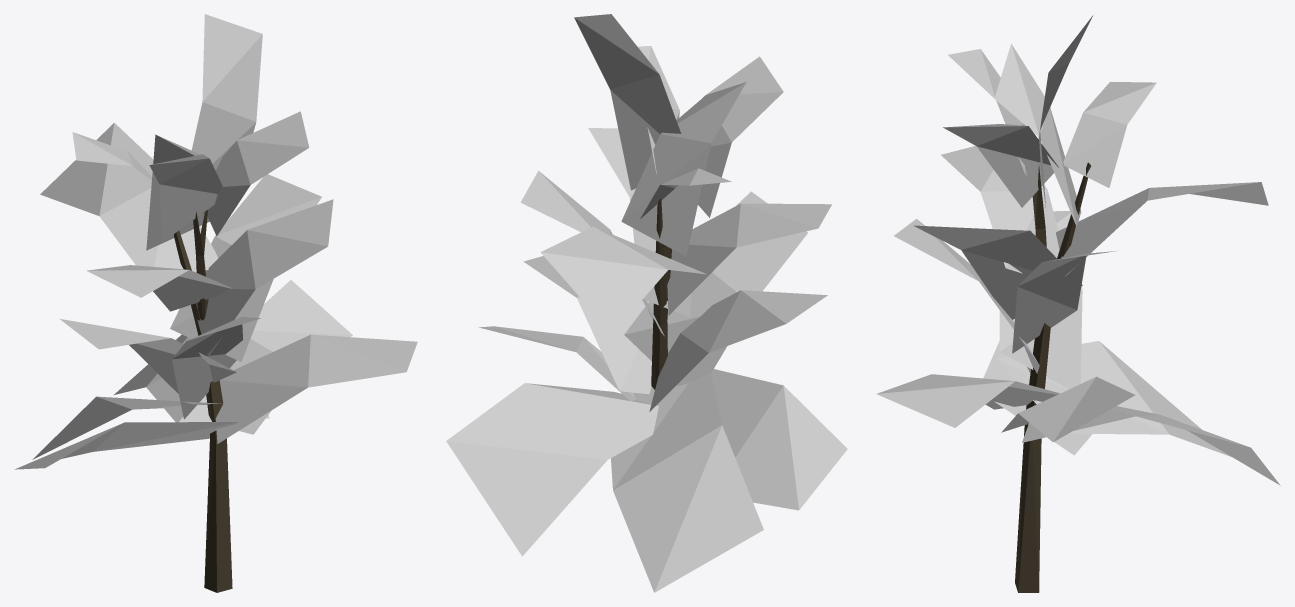
Rendered from ADDON_PLANTS_JUNGLETREE_03_163P.OBJ.
3 views of the same model, side by side, from view 1: azimuth 30°, elevation 25°; view 2: azimuth 150°, elevation 25°; view 3: azimuth 270°, elevation 25° (orthographic). The views are drawn at different scales.
Visible parts, largest first — view 1: ADDON_PLANTS_JUNGLETREE_03_163P; view 2: ADDON_PLANTS_JUNGLETREE_03_163P; view 3: ADDON_PLANTS_JUNGLETREE_03_163P.
Part boxes in pixels (x1,y1,x2,y2): ADDON_PLANTS_JUNGLETREE_03_163P: (14,14,417,592); ADDON_PLANTS_JUNGLETREE_03_163P: (446,14,847,592); ADDON_PLANTS_JUNGLETREE_03_163P: (876,15,1280,592).
Size of the model in its own units: 7.71 by 11.93 by 7.49.
